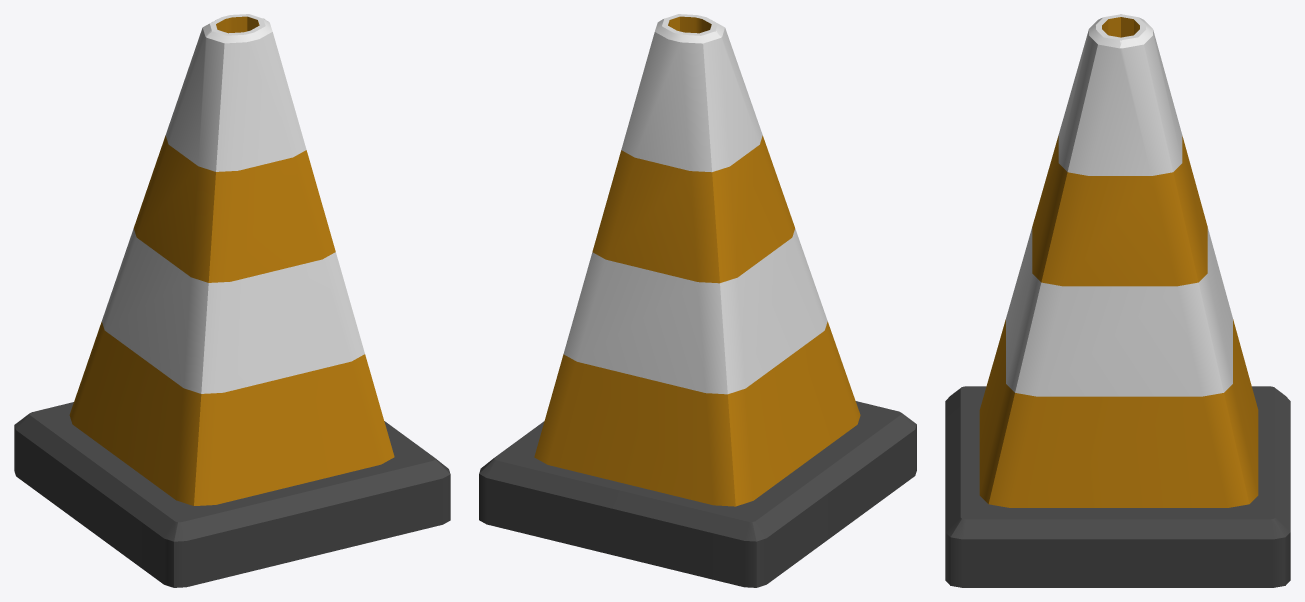
The model's file is Roadcone.fbx.
The picture shows the model from 3 angles, left to right: view 1: azimuth 30°, elevation 25°; view 2: azimuth 150°, elevation 25°; view 3: azimuth 270°, elevation 25°; orthographic projection. The views are drawn at different scales.
Visible parts, largest first — view 1: pCube8; view 2: pCube8; view 3: pCube8.
Boxes of the visible parts, <box> form: pCube8: <box>14,14,450,587</box>; pCube8: <box>479,14,916,587</box>; pCube8: <box>945,14,1290,587</box>.
Bounding box in the file's own units: 5.89 × 9.25 × 5.89.
